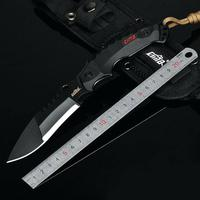knife: (3, 15, 166, 168)
